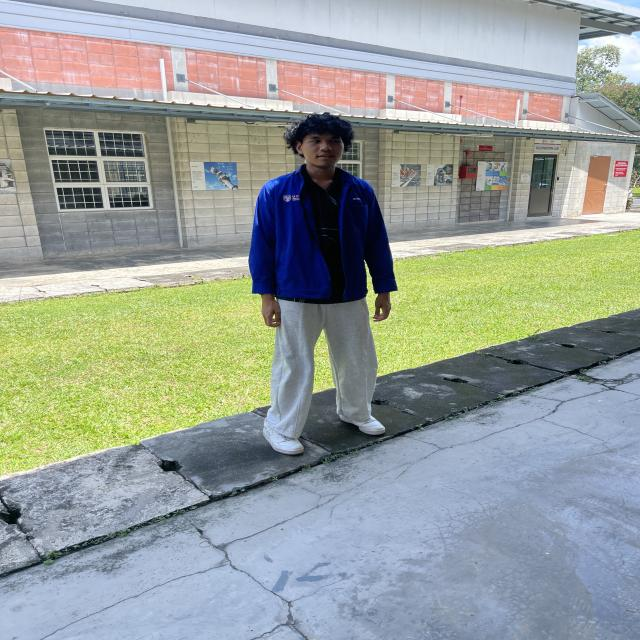person_with_labcoat: (249, 113, 397, 455)
